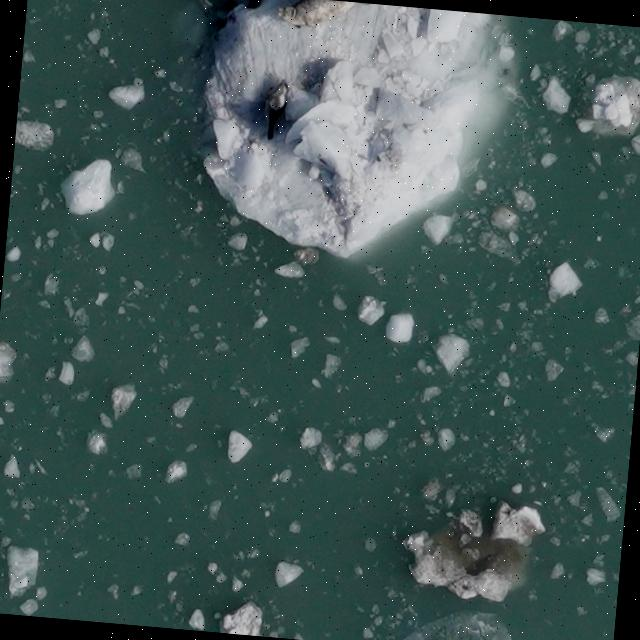seal: (266, 0, 374, 39), (256, 72, 296, 147)
